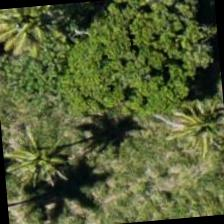Kelapa_Sawit: (0, 114, 90, 210), (160, 75, 223, 172), (0, 2, 87, 68)
